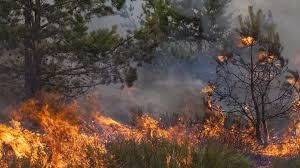fire: (238, 32, 256, 46), (257, 50, 275, 63), (216, 53, 228, 62)
